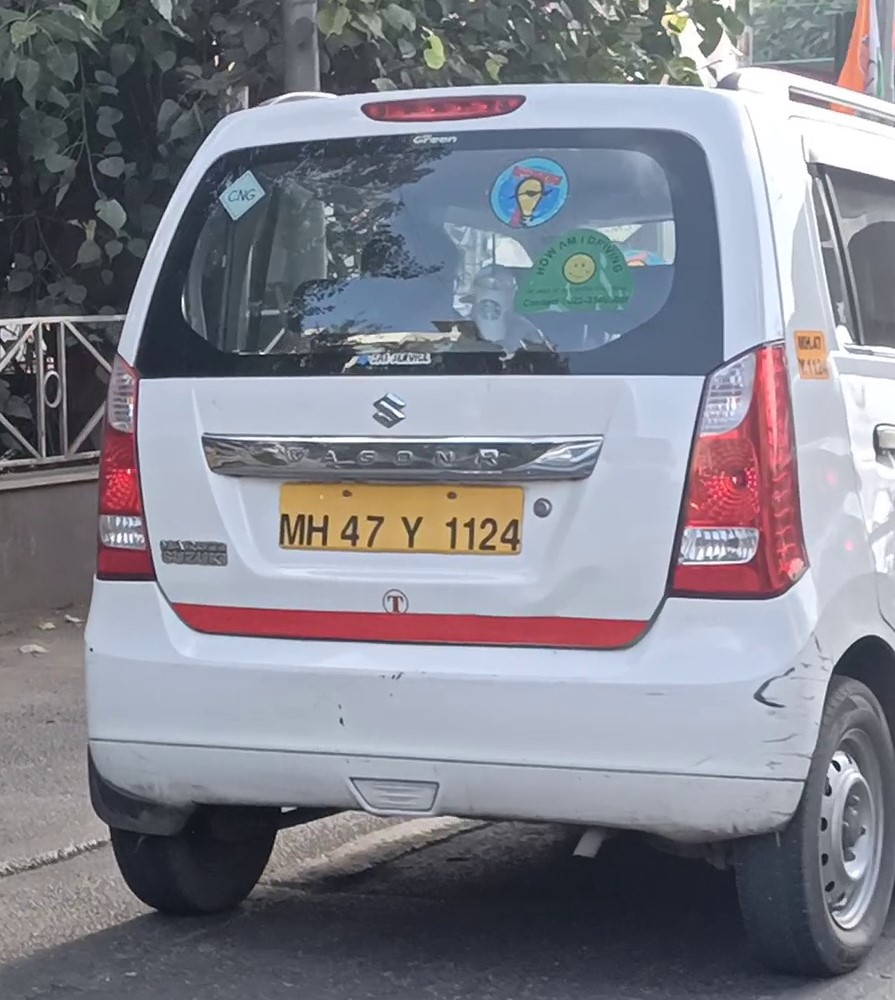MH47Y1124: (278, 480, 529, 554)
